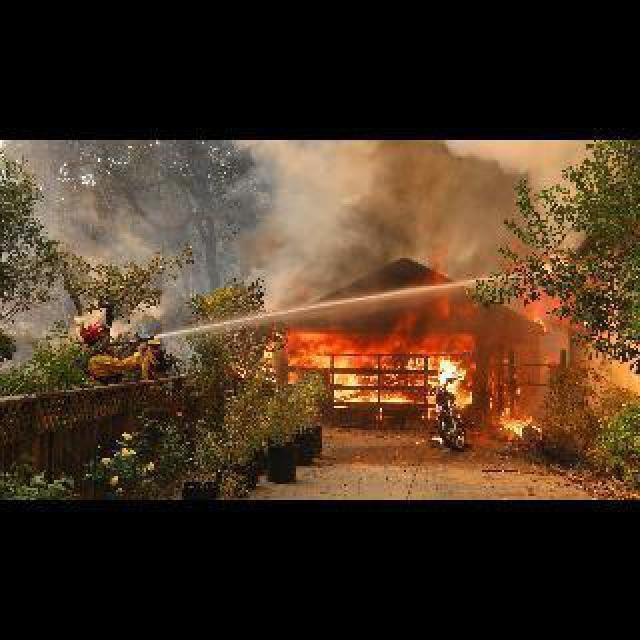Fire: (262, 318, 530, 446)
Smoke: (220, 138, 504, 278)
